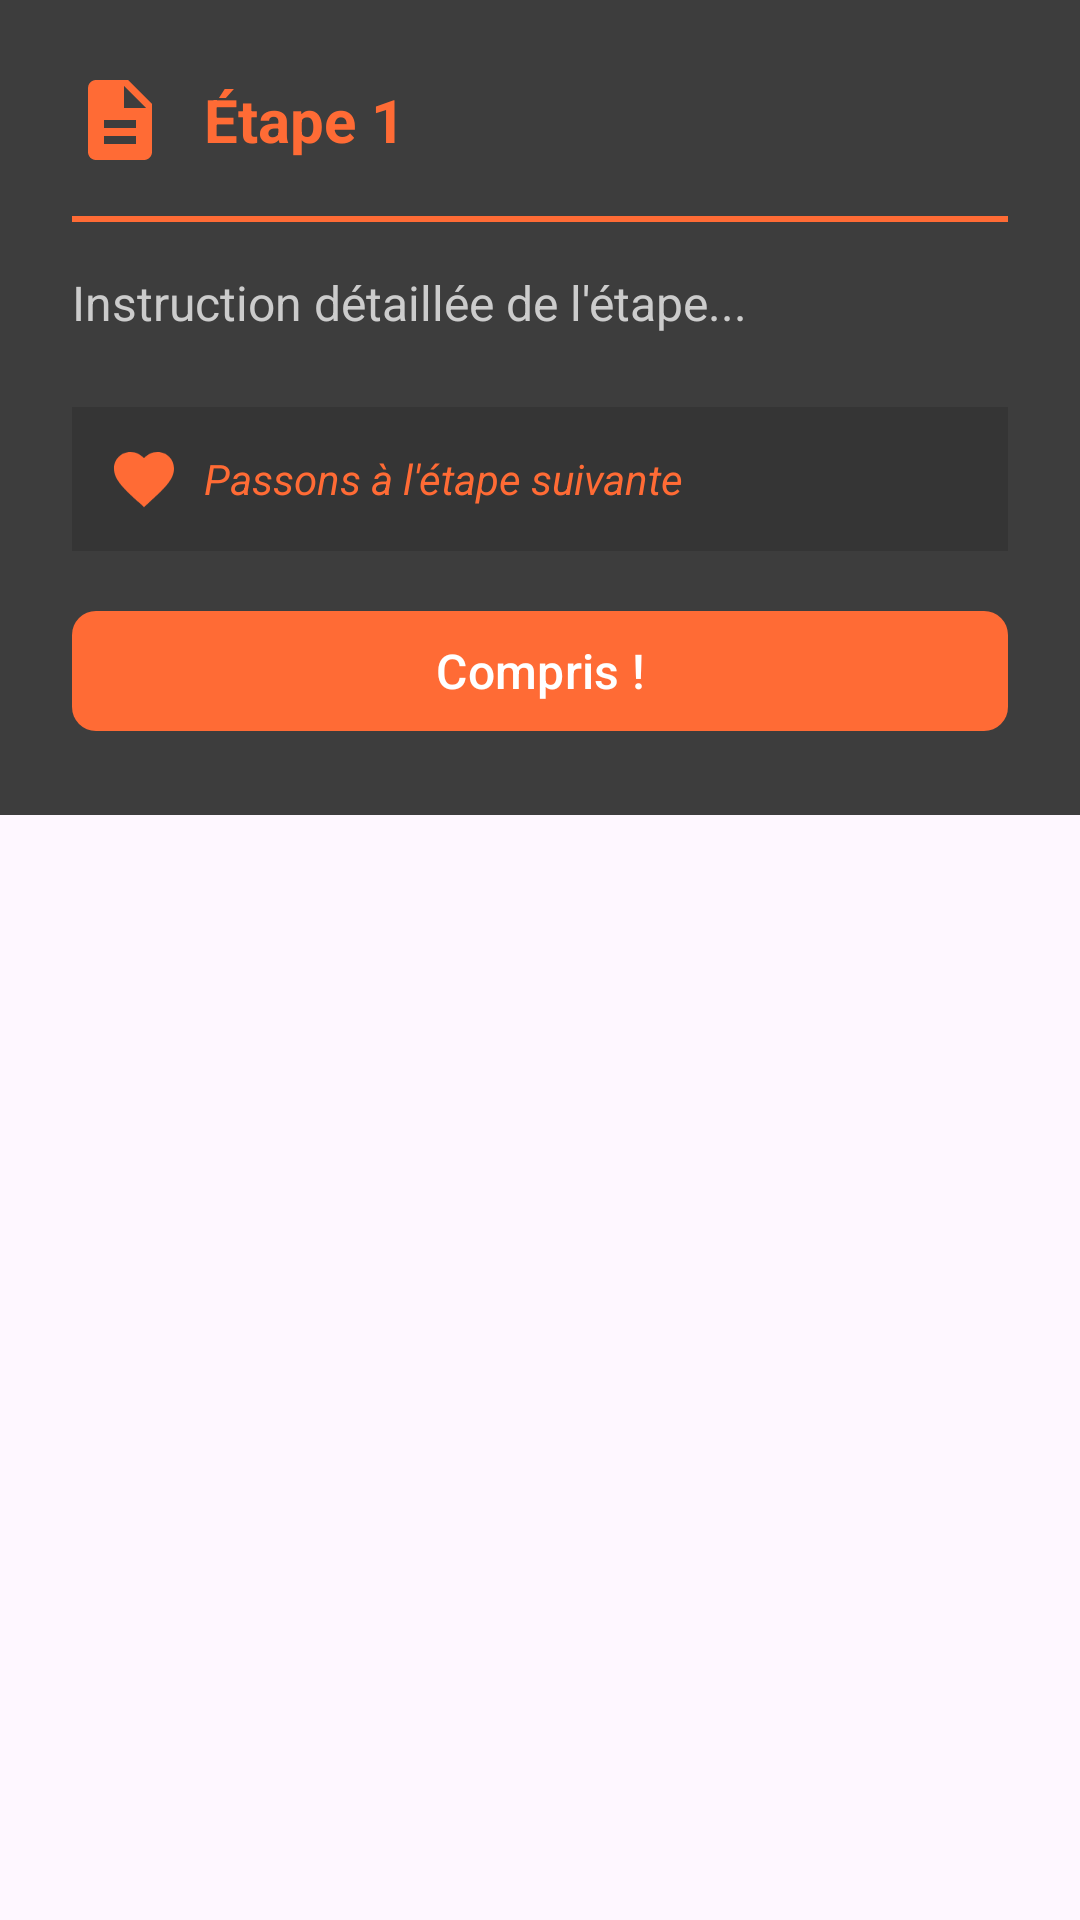

Screen size 1080×1920. Icon name, then its center in pixels as [x,y]:
heart: [144,479]
instructions: [120,120]
